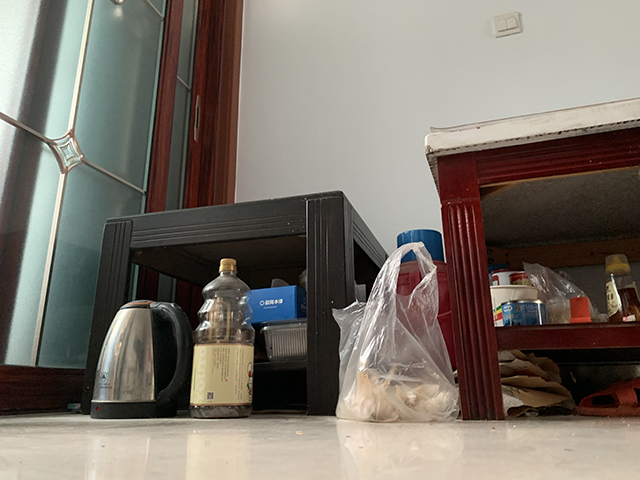slippers: (574, 376, 640, 419)
table: (77, 190, 392, 417), (423, 97, 640, 422)
